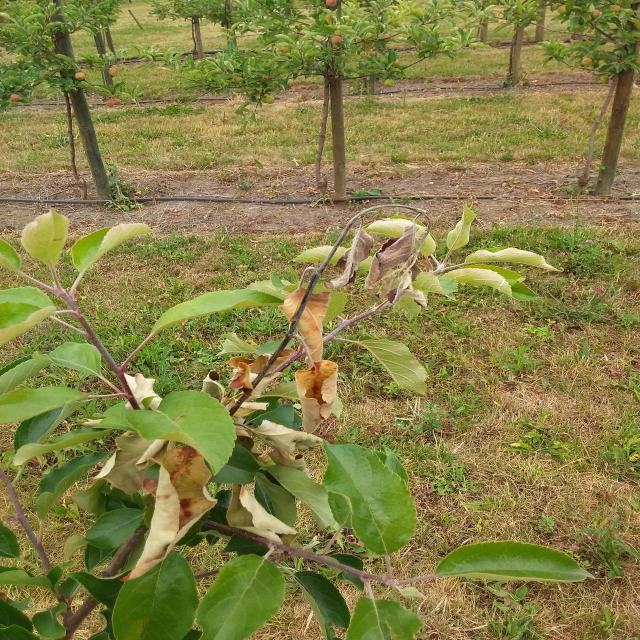-FireBlight-: (350, 211, 437, 294)
